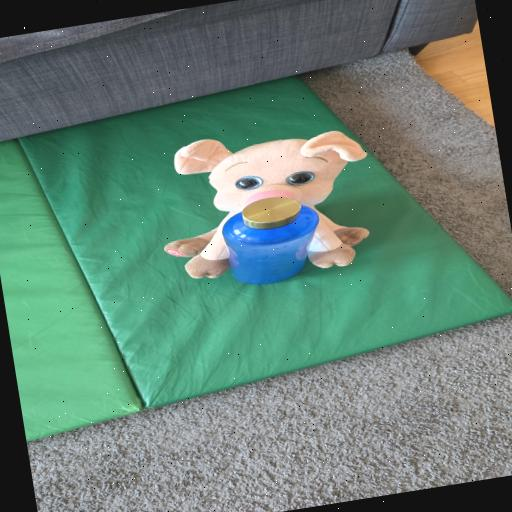bottle: (216, 190, 324, 300)
